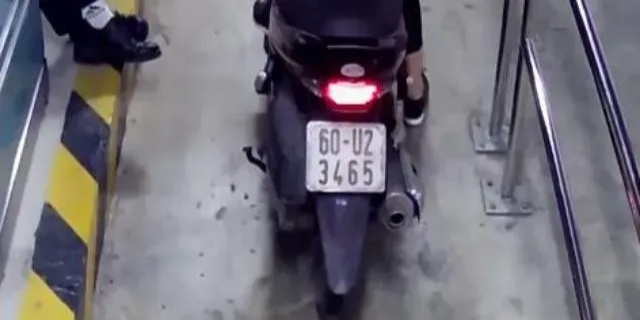bien_so: (307, 120, 387, 192)
